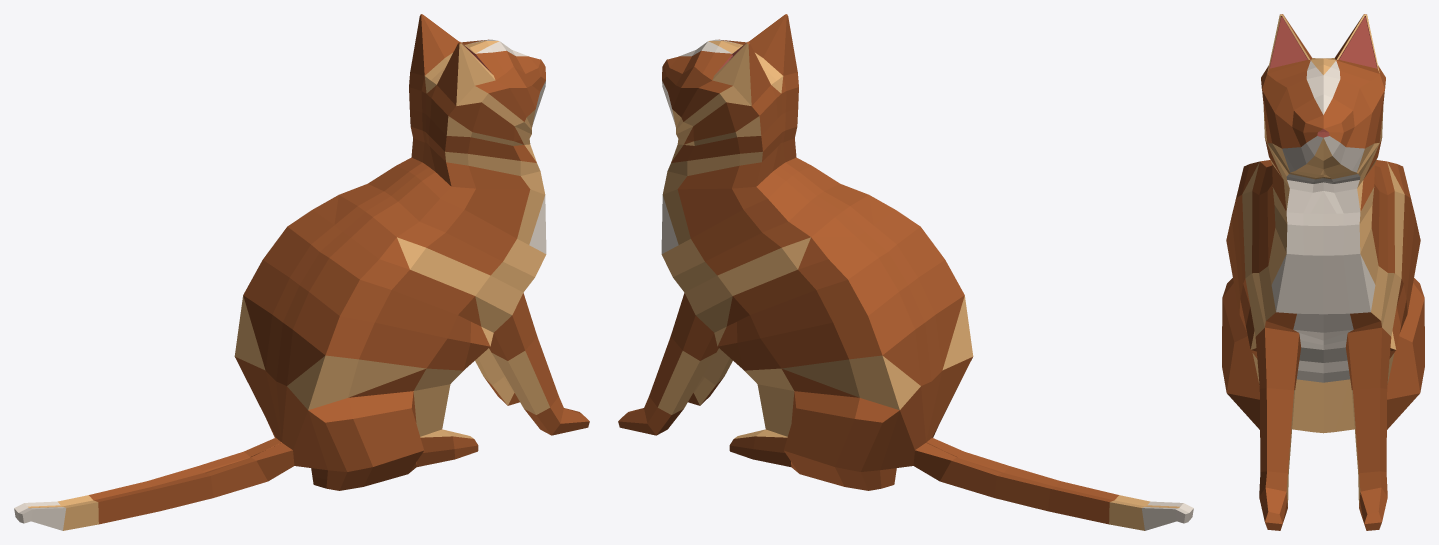
Rendered from network-cat.glb.
The picture shows the model from 3 angles, left to right: view 1: azimuth 30°, elevation 25°; view 2: azimuth 150°, elevation 25°; view 3: azimuth 270°, elevation 25°; orthographic projection. The views are drawn at different scales.
Visible parts, largest first — view 1: cat; view 2: cat; view 3: cat.
Boxes of the visible parts, left/top/right/bottom form: cat: left=14, top=14, right=589, bottom=530; cat: left=618, top=14, right=1193, bottom=530; cat: left=1222, top=14, right=1424, bottom=530.
Size of the model in its own units: 5.28 by 3.8 by 1.55.
